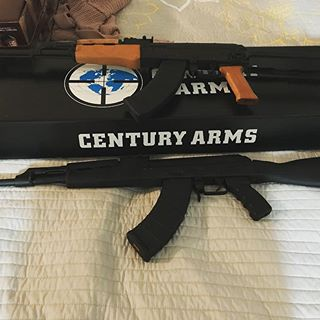ak47: (1, 154, 320, 263), (1, 36, 320, 121)
